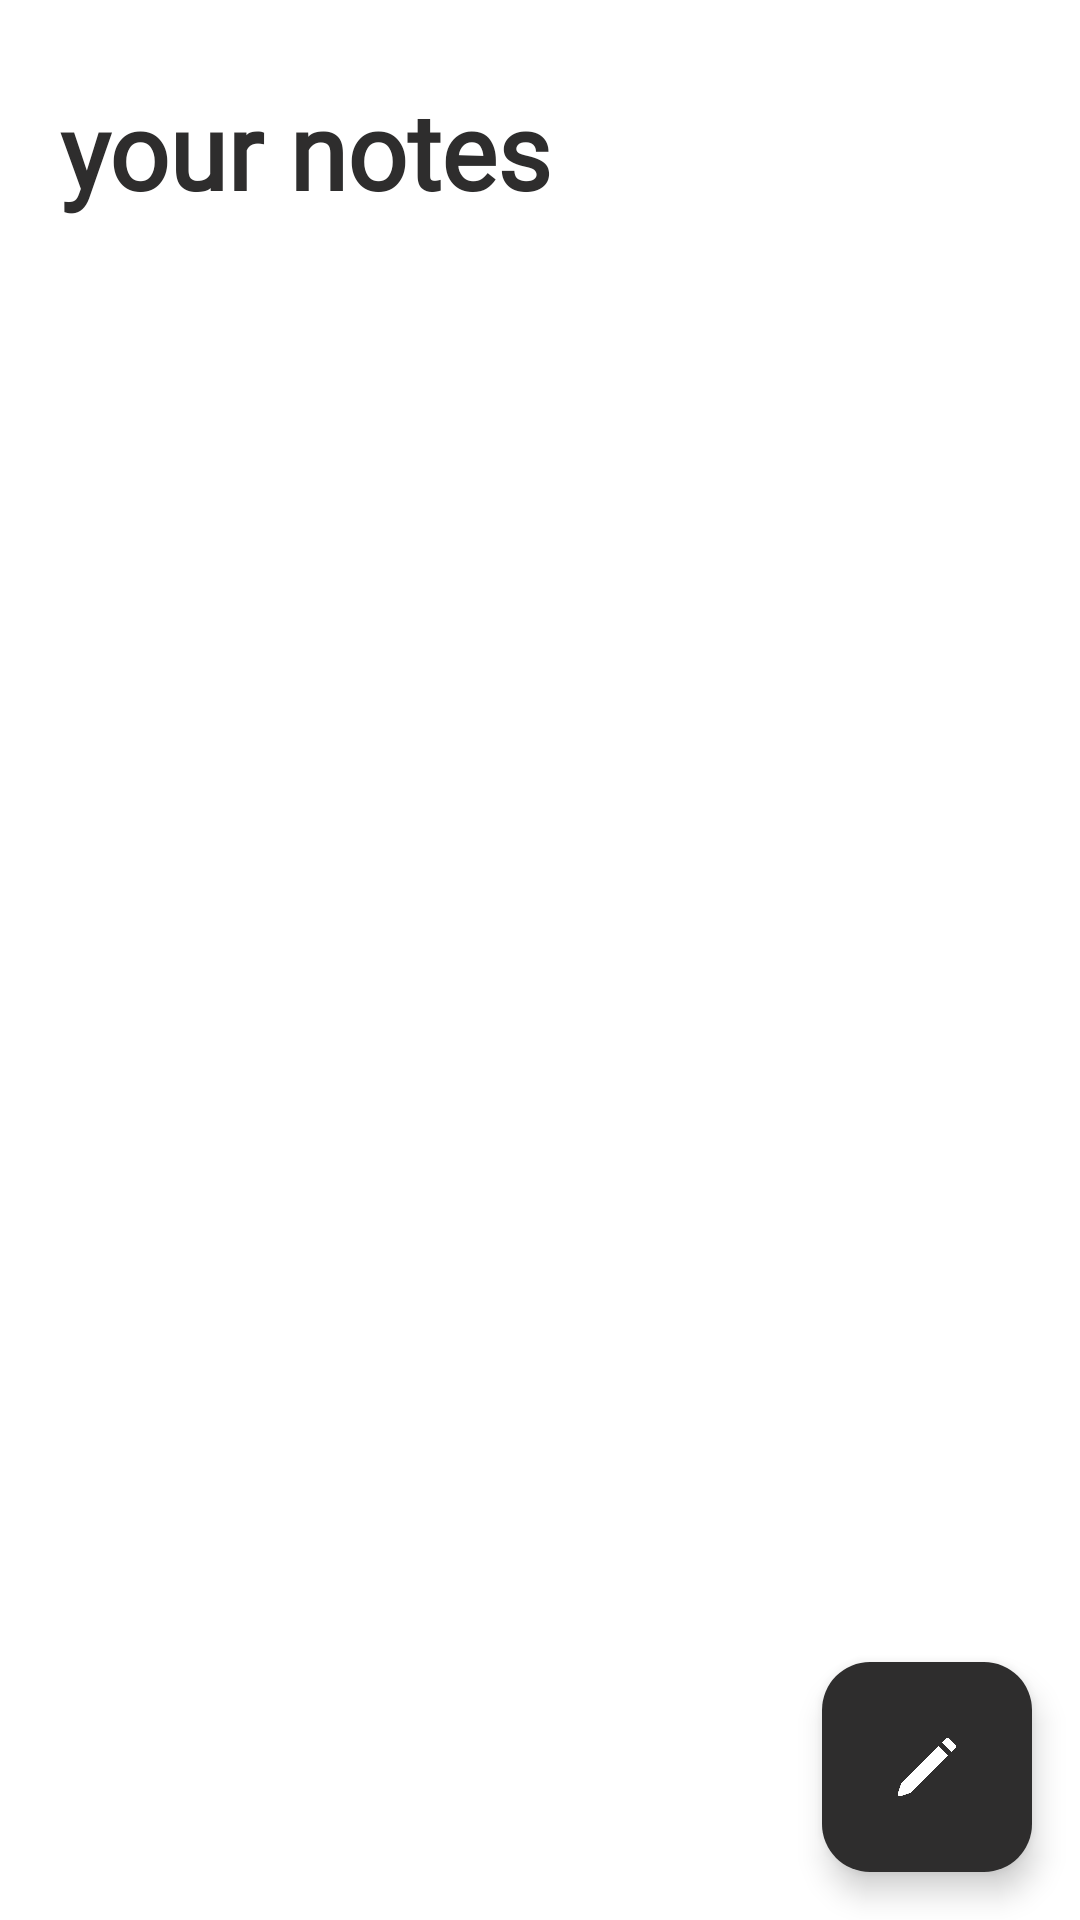

Where to tap for icons on this 1080 × 1920 app screen, as [x,y]:
pen: [927,1767]
